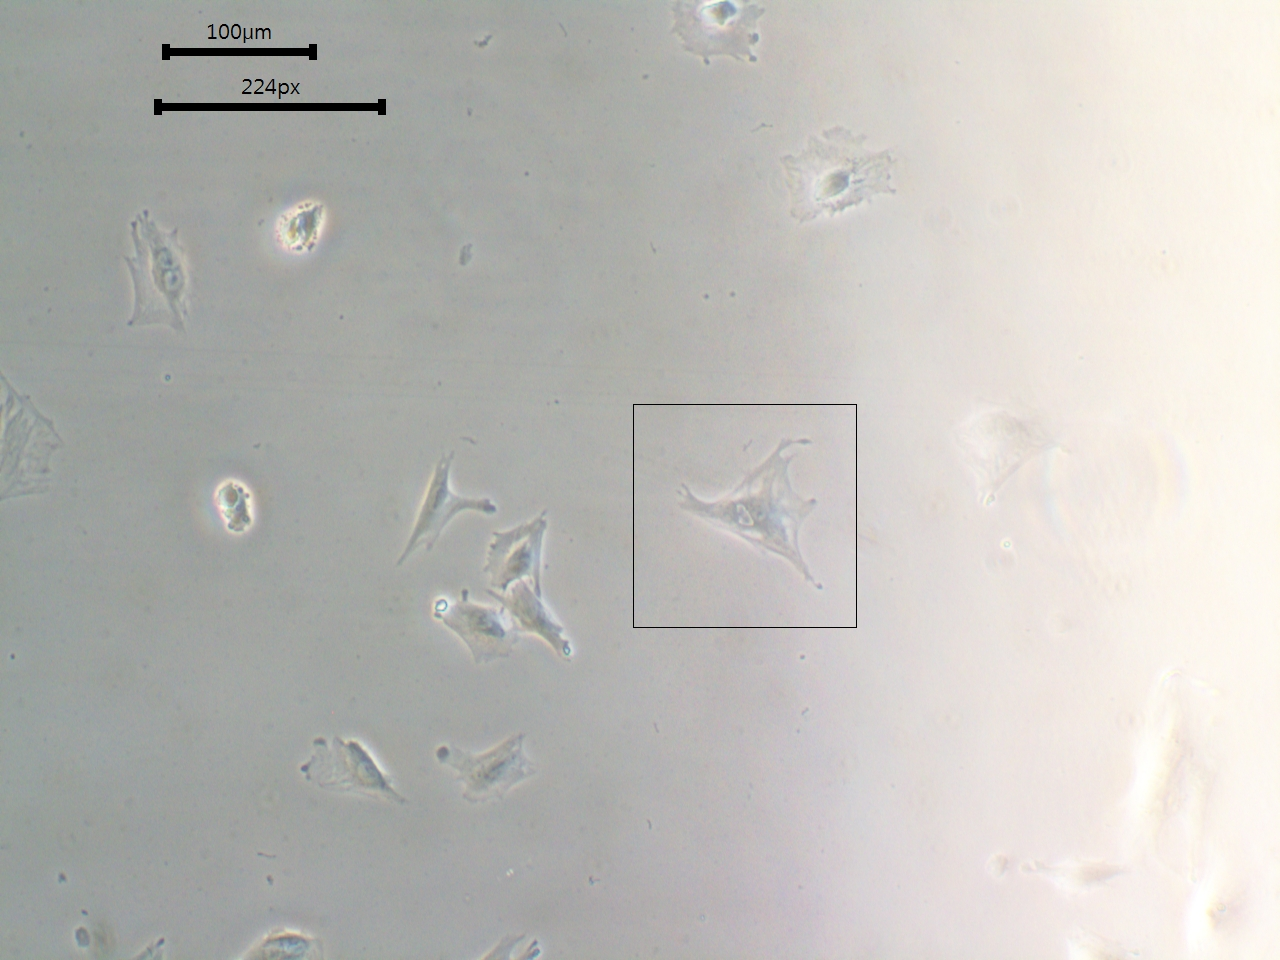dividing: (114, 205, 189, 377)
medium-spread: (670, 428, 835, 597), (779, 117, 914, 236), (662, 1, 776, 67)
small-polygonal: (396, 450, 499, 562)
small-round: (275, 198, 341, 270), (204, 476, 254, 556)
small-spread: (431, 722, 545, 815), (286, 732, 403, 818)
